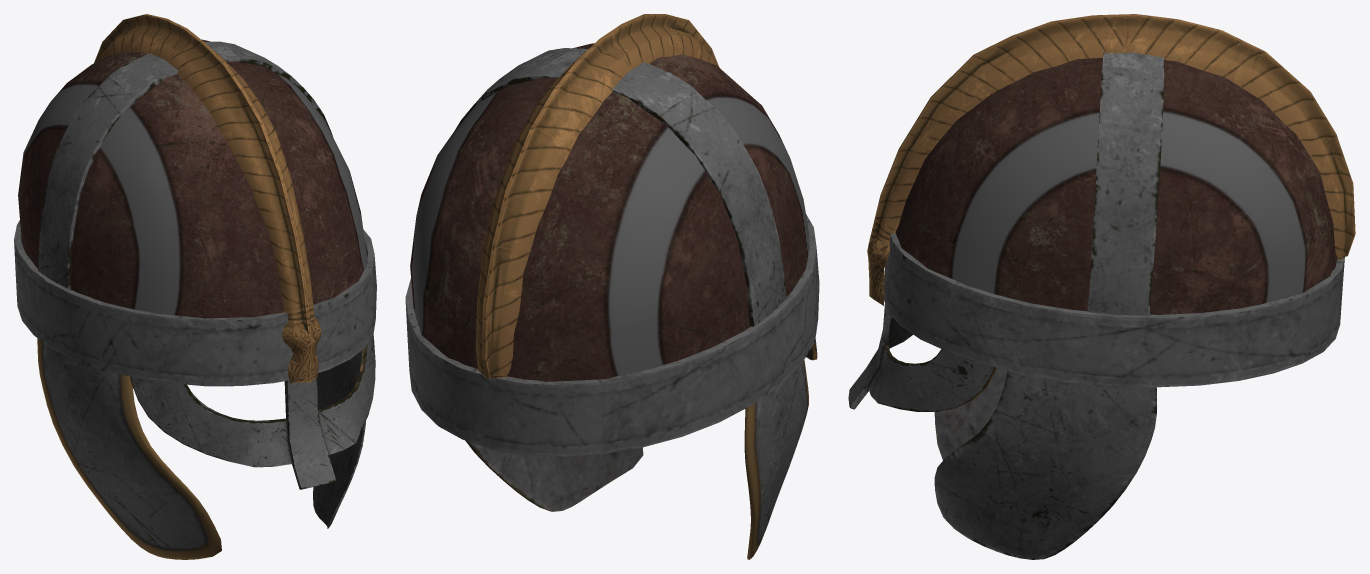
File: cts_rohan_helmet4a.fbx
3 views of the same model, side by side, from view 1: azimuth 30°, elevation 25°; view 2: azimuth 150°, elevation 25°; view 3: azimuth 270°, elevation 25° (orthographic). The views are drawn at different scales.
Visible parts, largest first — view 1: cts_rohan_helmet4a; view 2: cts_rohan_helmet4a; view 3: cts_rohan_helmet4a.
Boxes of the visible parts, <box> form: cts_rohan_helmet4a: <box>14,14,376,559</box>; cts_rohan_helmet4a: <box>405,14,819,559</box>; cts_rohan_helmet4a: <box>848,14,1355,559</box>.
Bounding box in the file's own units: 0.1901 × 0.2656 × 0.2898.
1 material, 1 textured.
